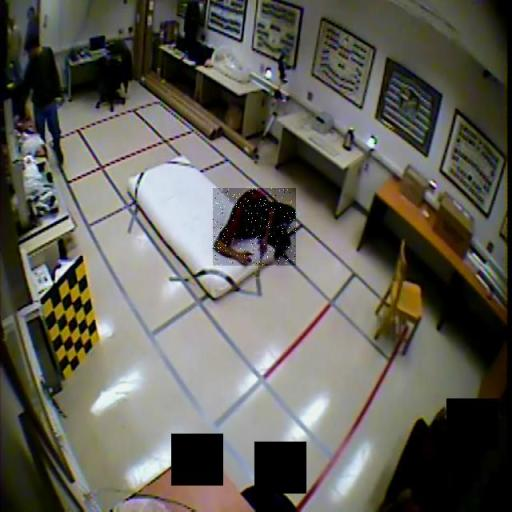Fall: (213, 188, 296, 266)
